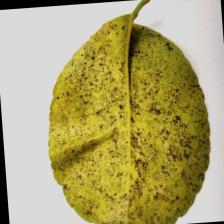canker: (51, 42, 211, 200)
